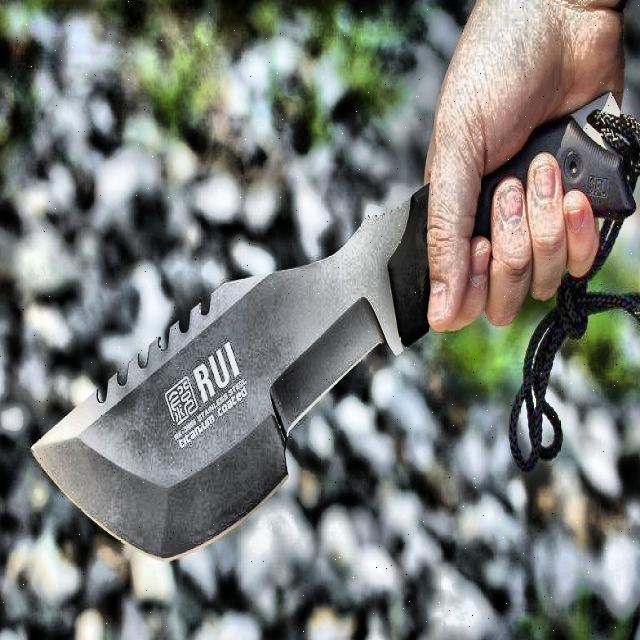knife: (30, 96, 636, 564)
